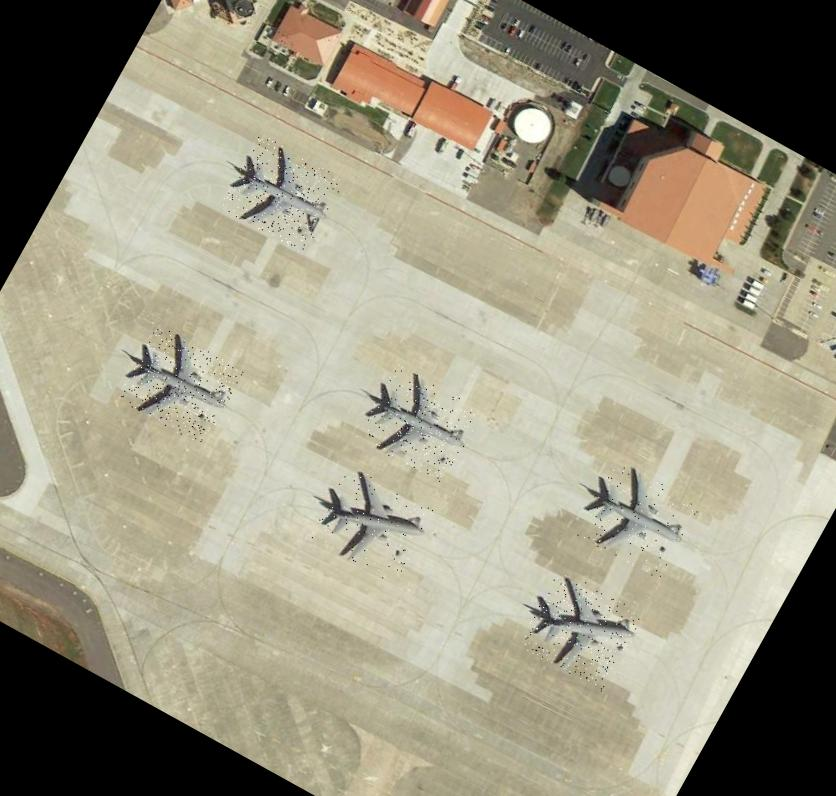A18: (516, 568, 643, 692), (573, 458, 701, 581), (116, 324, 244, 446), (355, 363, 483, 485), (218, 133, 345, 254), (308, 464, 434, 584)
